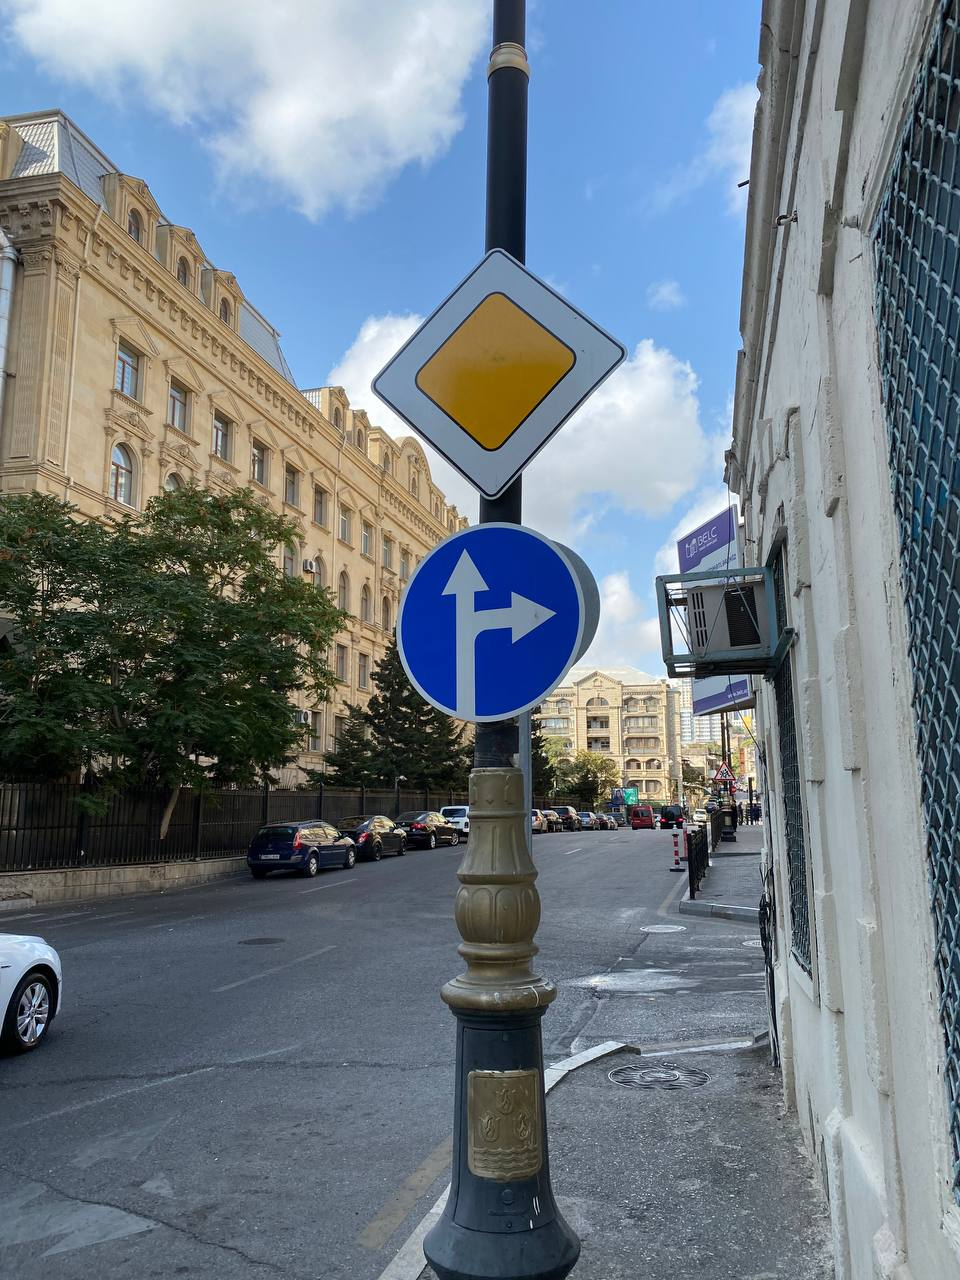Main Road: (368, 248, 628, 498)
Straight or Right: (397, 522, 585, 723)
